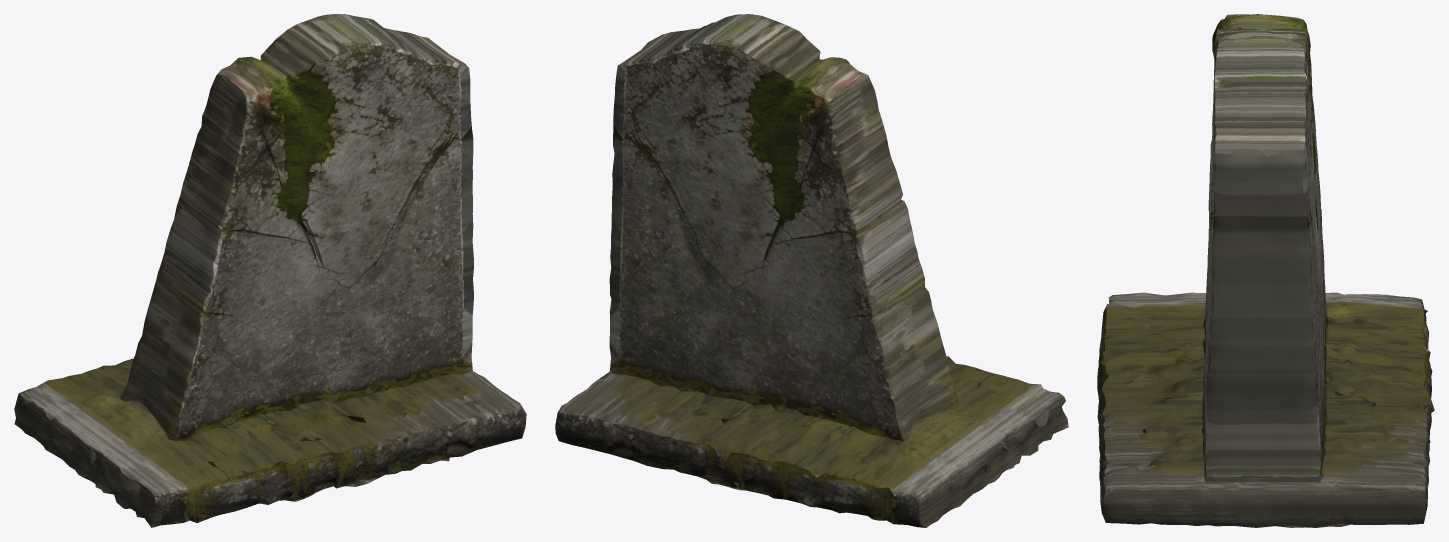
Rendered from grave_c.glb.
3 renders of one model, left to right at view 1: azimuth 30°, elevation 25°; view 2: azimuth 150°, elevation 25°; view 3: azimuth 270°, elevation 25°, orthographic. The views are drawn at different scales.
Parts seen in each view (by area): view 1: geometry_0; view 2: geometry_0; view 3: geometry_0.
Boxes of the visible parts, <box> form: geometry_0: <box>14,14,526,527</box>; geometry_0: <box>555,14,1068,527</box>; geometry_0: <box>1097,14,1434,527</box>.
Size of the model in its own units: 0.9024 by 0.9 by 0.6407.
Materials: 1 (1 with a texture image).
